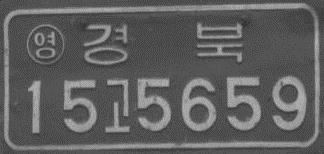1: (24, 78, 47, 135)
5: (224, 74, 262, 133), (61, 78, 99, 135), (135, 76, 173, 132)
6: (180, 76, 217, 132)
9: (270, 74, 307, 132)
경북_D: (79, 20, 245, 68)
고: (103, 77, 132, 135)
영: (25, 22, 66, 66)
